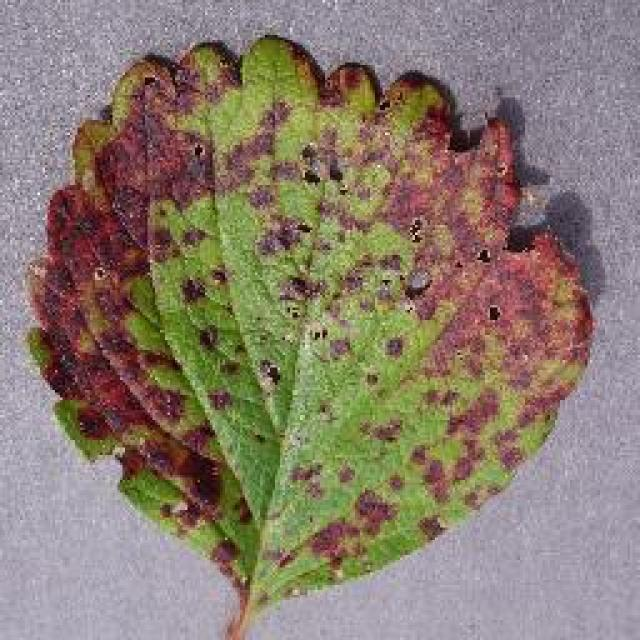Strawberry___Leaf_scorch: (81, 106, 590, 558)
